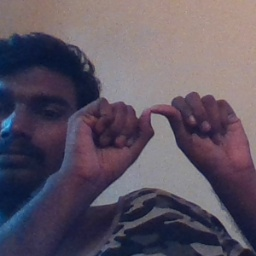A: (84, 83, 233, 179)
